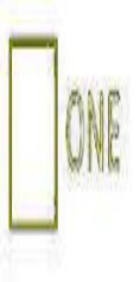CheckBox: (1, 1, 139, 281)
